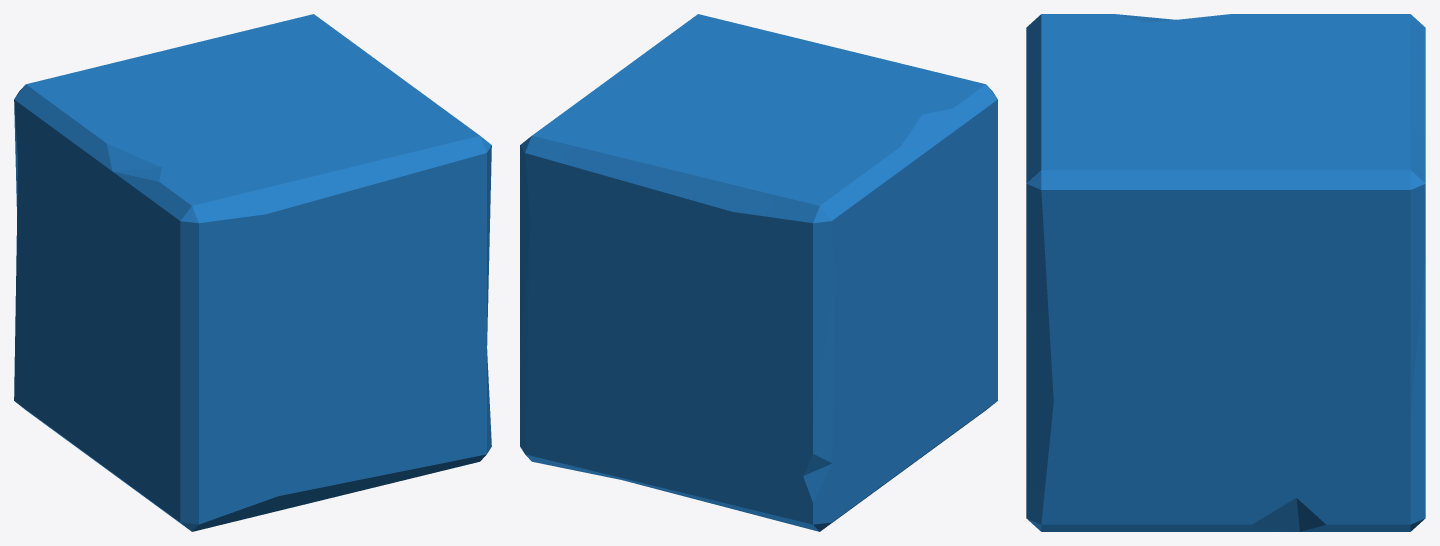
The model's file is CubestacleOrange-LowBRD_rootss45.fbx.
The picture shows the model from 3 angles, left to right: view 1: azimuth 30°, elevation 25°; view 2: azimuth 150°, elevation 25°; view 3: azimuth 270°, elevation 25°; orthographic projection. The views are drawn at different scales.
Visible parts, largest first — view 1: CubestacleOrange_LowBRD_sh_17, CubestacleOrange_LowBRD_sh_18, CubestacleOrange_LowBRD_sh_27, CubestacleOrange_LowBRD_sh_1, CubestacleOrange_LowBRD_sh_6, CubestacleOrange_LowBRD_sh_31, CubestacleOrange_LowBRD_sh_15, CubestacleOrange_LowBRD_sh_36, CubestacleOrange_LowBRD_sh_32, CubestacleOrange_LowBRD_sh_9, CubestacleOrange_LowBRD_sh_42, CubestacleOrange_LowBRD_sh_25 (+11 smaller); view 2: CubestacleOrange_LowBRD_sh_44, CubestacleOrange_LowBRD_sh_35, CubestacleOrange_LowBRD_sh_15, CubestacleOrange_LowBRD_sh_36, CubestacleOrange_LowBRD_sh_3, CubestacleOrange_LowBRD_sh_42, CubestacleOrange_LowBRD_sh_43, CubestacleOrange_LowBRD_sh_17, CubestacleOrange_LowBRD_sh_37, CubestacleOrange_LowBRD_sh_1, CubestacleOrange_LowBRD_sh_2, CubestacleOrange_LowBRD_sh_13 (+15 smaller); view 3: CubestacleOrange_LowBRD_sh_20, CubestacleOrange_LowBRD_sh_19, CubestacleOrange_LowBRD_sh_32, CubestacleOrange_LowBRD_sh_13, CubestacleOrange_LowBRD_sh_41, CubestacleOrange_LowBRD_sh_16, CubestacleOrange_LowBRD_sh_1, CubestacleOrange_LowBRD_sh_39, CubestacleOrange_LowBRD_sh_35, CubestacleOrange_LowBRD_sh_22, CubestacleOrange_LowBRD_sh_9, CubestacleOrange_LowBRD_sh_21 (+11 smaller).
Boxes of the visible parts, x1,y1,x2,y2 form: CubestacleOrange_LowBRD_sh_17: [127, 166, 284, 321]; CubestacleOrange_LowBRD_sh_18: [104, 371, 330, 531]; CubestacleOrange_LowBRD_sh_27: [146, 259, 340, 402]; CubestacleOrange_LowBRD_sh_1: [233, 97, 439, 233]; CubestacleOrange_LowBRD_sh_6: [142, 331, 354, 472]; CubestacleOrange_LowBRD_sh_31: [316, 227, 412, 446]; CubestacleOrange_LowBRD_sh_15: [14, 84, 122, 271]; CubestacleOrange_LowBRD_sh_36: [15, 264, 123, 469]; CubestacleOrange_LowBRD_sh_32: [377, 311, 491, 484]; CubestacleOrange_LowBRD_sh_9: [394, 219, 489, 405]; CubestacleOrange_LowBRD_sh_42: [57, 152, 149, 375]; CubestacleOrange_LowBRD_sh_25: [237, 154, 379, 272]; CubestacleOrange_LowBRD_sh_44: [696, 263, 863, 447]; CubestacleOrange_LowBRD_sh_35: [669, 138, 836, 263]; CubestacleOrange_LowBRD_sh_15: [794, 137, 921, 337]; CubestacleOrange_LowBRD_sh_36: [791, 331, 940, 480]; CubestacleOrange_LowBRD_sh_3: [566, 107, 712, 232]; CubestacleOrange_LowBRD_sh_42: [874, 138, 966, 337]; CubestacleOrange_LowBRD_sh_43: [542, 236, 695, 410]; CubestacleOrange_LowBRD_sh_17: [883, 62, 997, 241]; CubestacleOrange_LowBRD_sh_37: [617, 221, 719, 399]; CubestacleOrange_LowBRD_sh_1: [713, 25, 860, 105]; CubestacleOrange_LowBRD_sh_2: [744, 444, 891, 531]; CubestacleOrange_LowBRD_sh_13: [520, 89, 669, 234]; CubestacleOrange_LowBRD_sh_20: [1026, 142, 1236, 313]; CubestacleOrange_LowBRD_sh_19: [1255, 324, 1425, 529]; CubestacleOrange_LowBRD_sh_32: [1026, 362, 1190, 531]; CubestacleOrange_LowBRD_sh_13: [1266, 129, 1425, 286]; CubestacleOrange_LowBRD_sh_41: [1155, 325, 1374, 437]; CubestacleOrange_LowBRD_sh_16: [1114, 216, 1298, 368]; CubestacleOrange_LowBRD_sh_1: [1026, 66, 1231, 159]; CubestacleOrange_LowBRD_sh_39: [1100, 115, 1270, 223]; CubestacleOrange_LowBRD_sh_35: [1303, 14, 1425, 108]; CubestacleOrange_LowBRD_sh_22: [1165, 17, 1308, 89]; CubestacleOrange_LowBRD_sh_9: [1026, 265, 1157, 378]; CubestacleOrange_LowBRD_sh_21: [1198, 254, 1369, 343].
Bounding box in the file's own units: 100 × 100 × 100.
